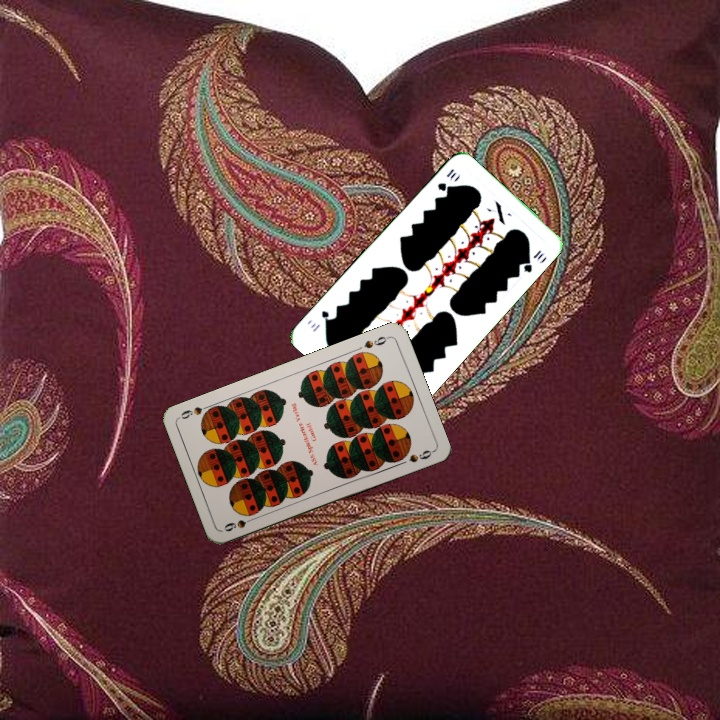G10: (433, 165, 459, 194)
S9: (220, 513, 259, 534), (360, 332, 392, 351)
